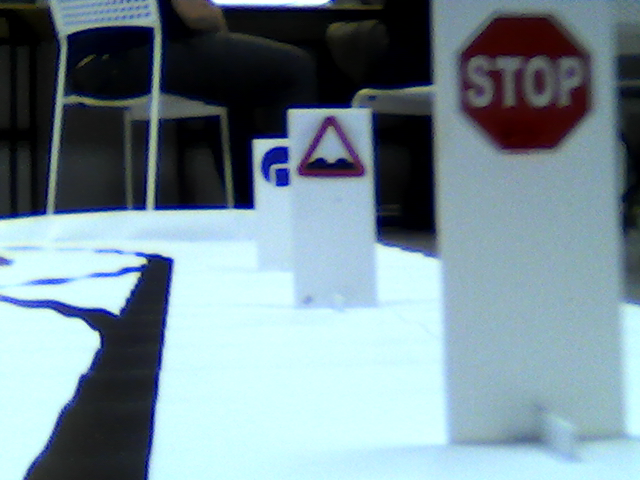Nerov: (298, 113, 372, 178)
Stop: (450, 10, 598, 157)
